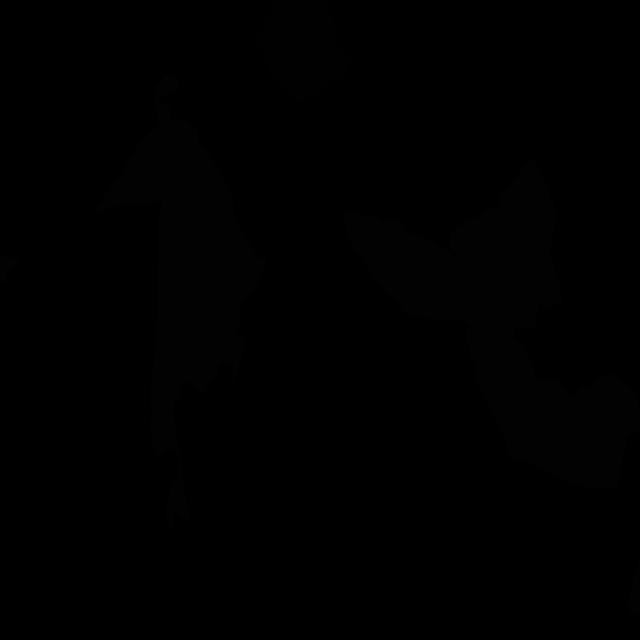cardboard: (449, 158, 640, 489), (90, 76, 266, 369), (150, 312, 246, 531), (344, 211, 486, 329), (628, 547, 640, 616), (0, 256, 20, 282)
rigid_plastic: (258, 0, 352, 102)
